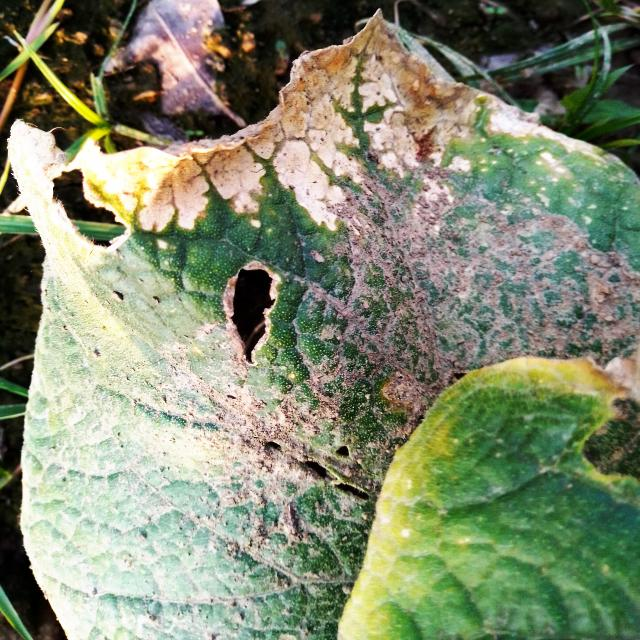Gummy-Stem-Blight: (3, 5, 615, 238)
